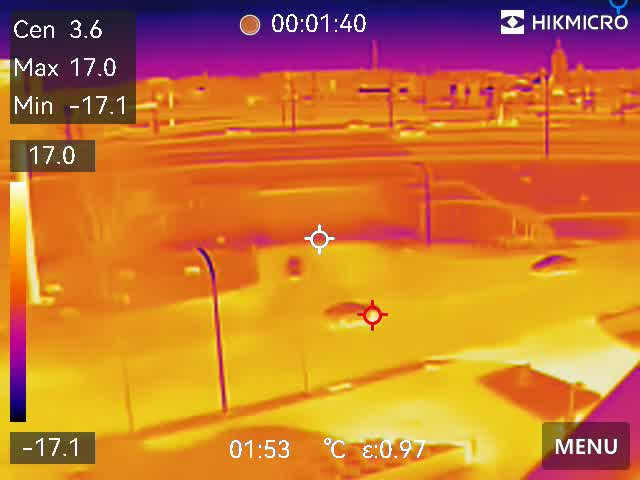heavyTruck: (423, 107, 521, 129)
smallCar: (316, 300, 380, 326), (527, 252, 584, 275), (281, 253, 308, 289)
vehicle: (218, 123, 255, 140), (340, 118, 374, 132), (396, 127, 428, 141)
